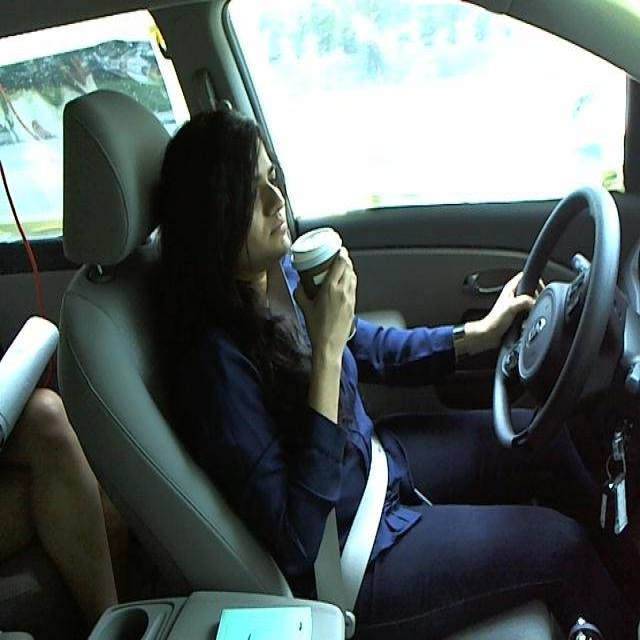drinking: (287, 224, 357, 344)
